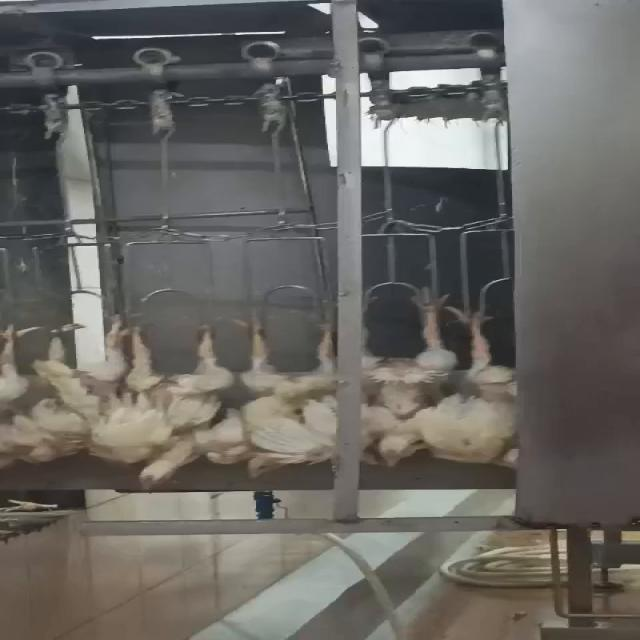chicken: (92, 318, 240, 495), (372, 297, 526, 467), (238, 298, 352, 482), (30, 312, 146, 469), (359, 290, 448, 474), (0, 314, 37, 474)
